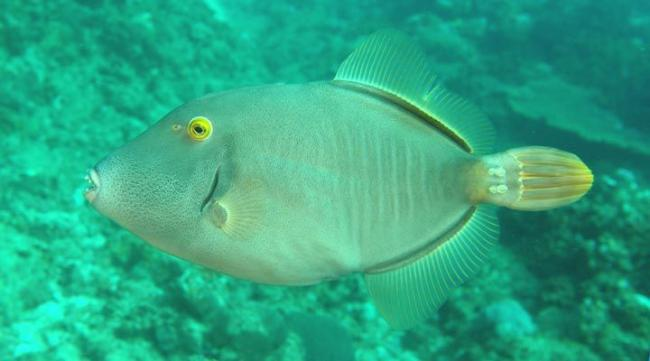fish: (86, 28, 594, 324)
